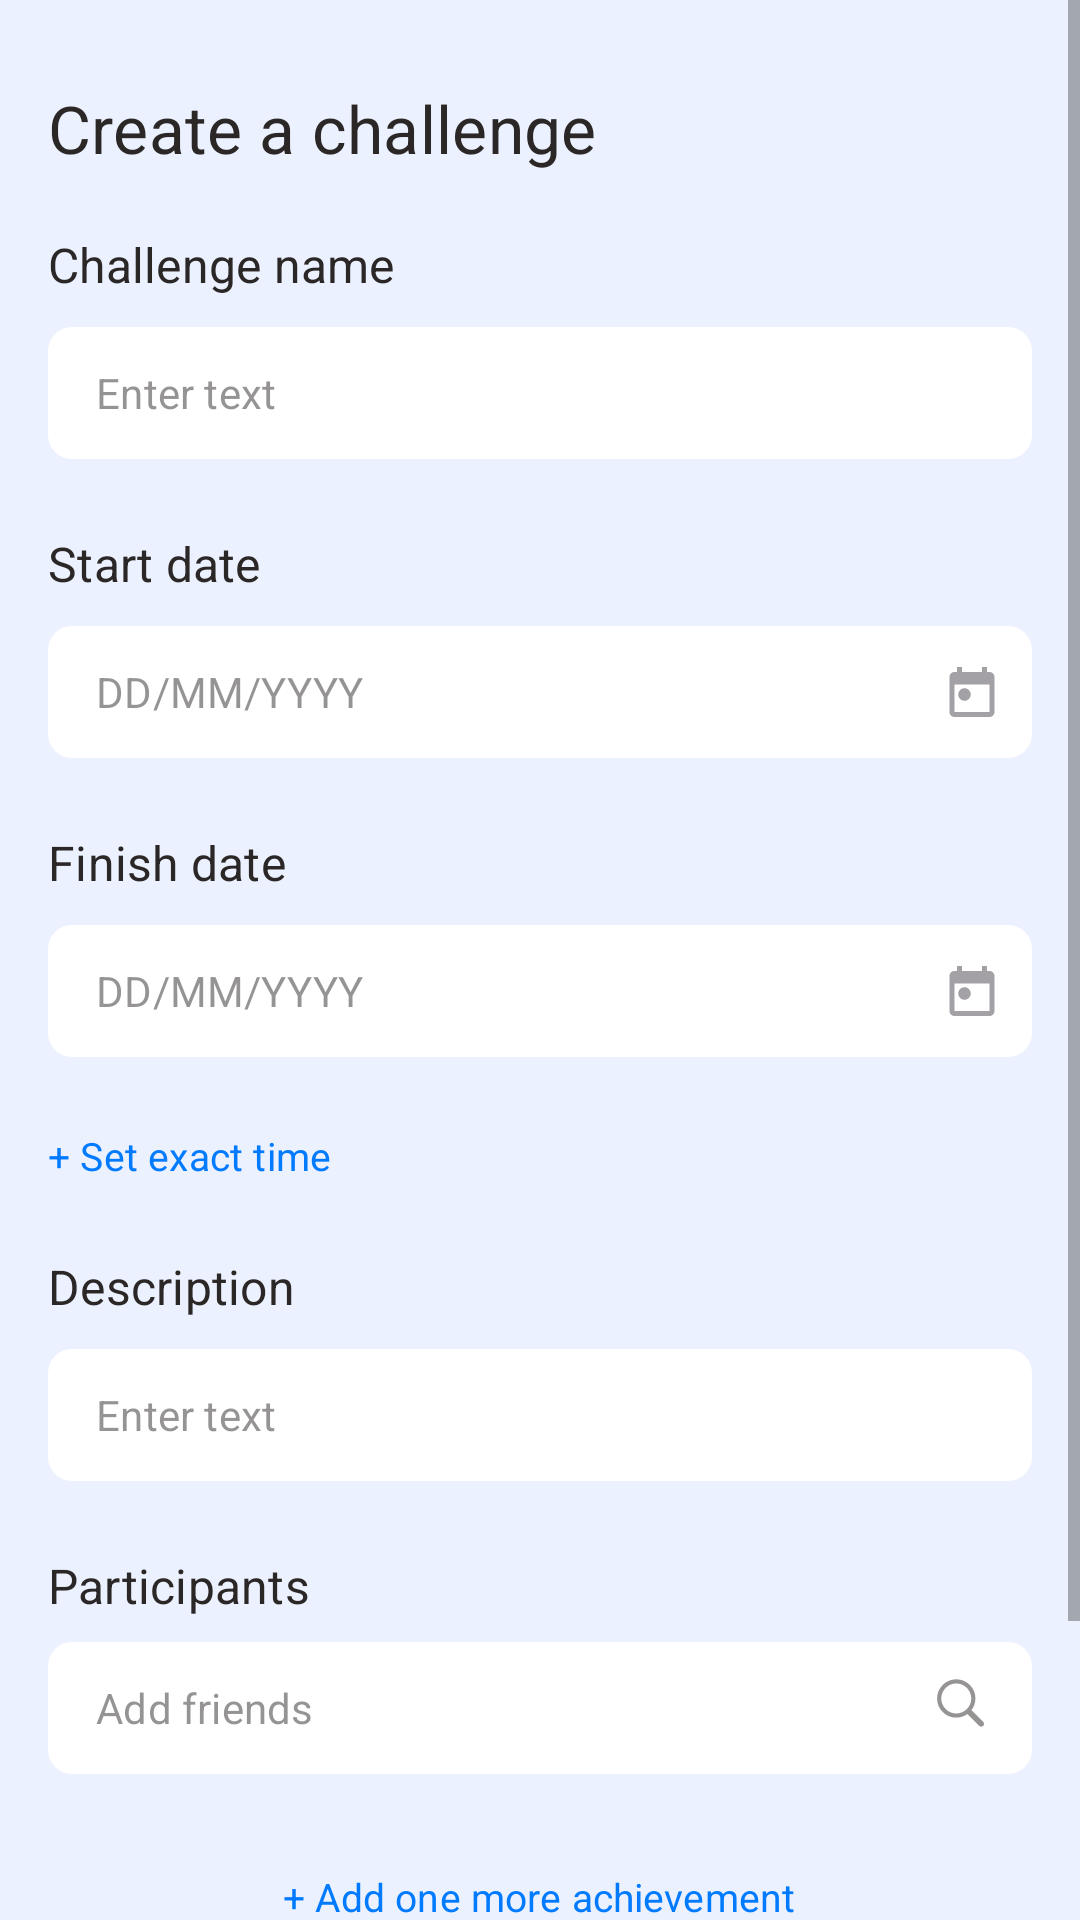

Where to tap for icons on this 1080×1920 app screen, as point (x, y):
search: point (960, 1703)
